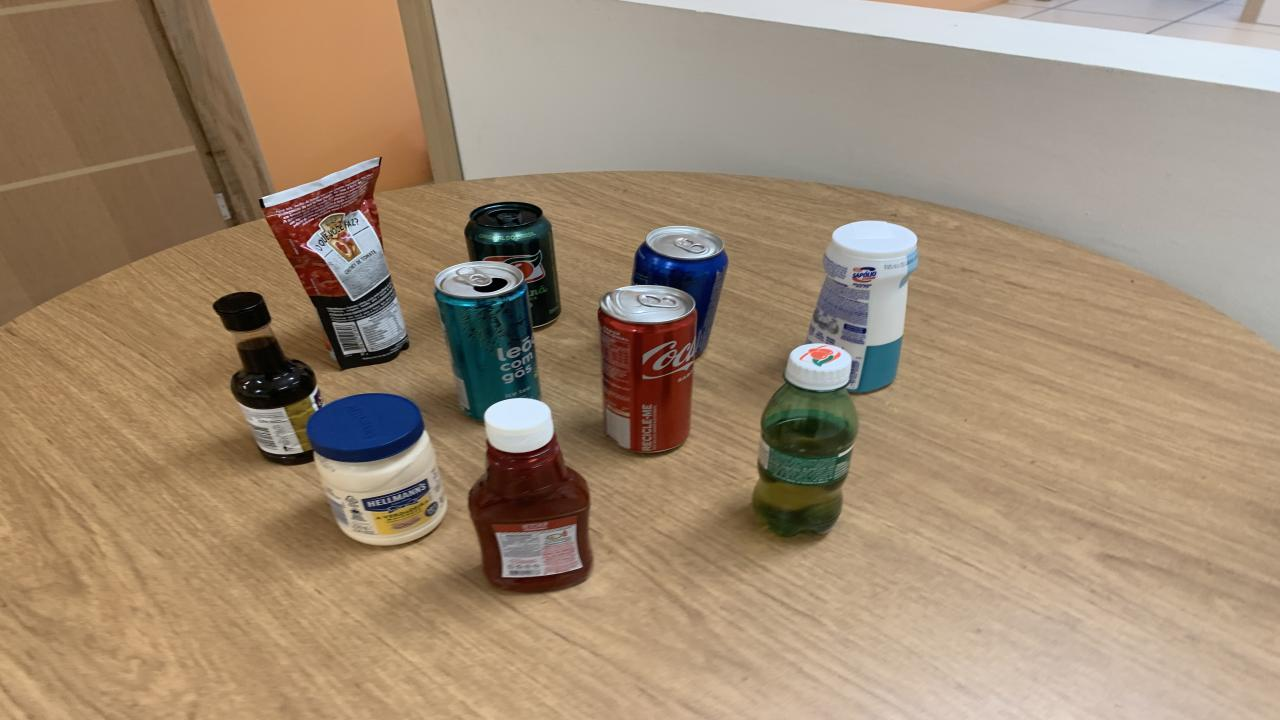Cleaner-Cleanup_Items: (808, 221, 918, 394)
Coke-Drinks: (598, 285, 698, 454)
English_Sauce-Pantry_Items: (212, 292, 322, 465)
Guarana-Drinks: (752, 343, 858, 536)
Guarana_Can-Drinks: (465, 202, 562, 328)
Ketchup-Pantry_Items: (468, 398, 592, 592)
Mayonnaise-Pantry_Items: (308, 394, 448, 546)
Tea-Drinks: (435, 261, 540, 420)
Tomato_Sauce-Pantry_Items: (262, 158, 410, 369)
Tonic-Drinks: (632, 227, 728, 354)
